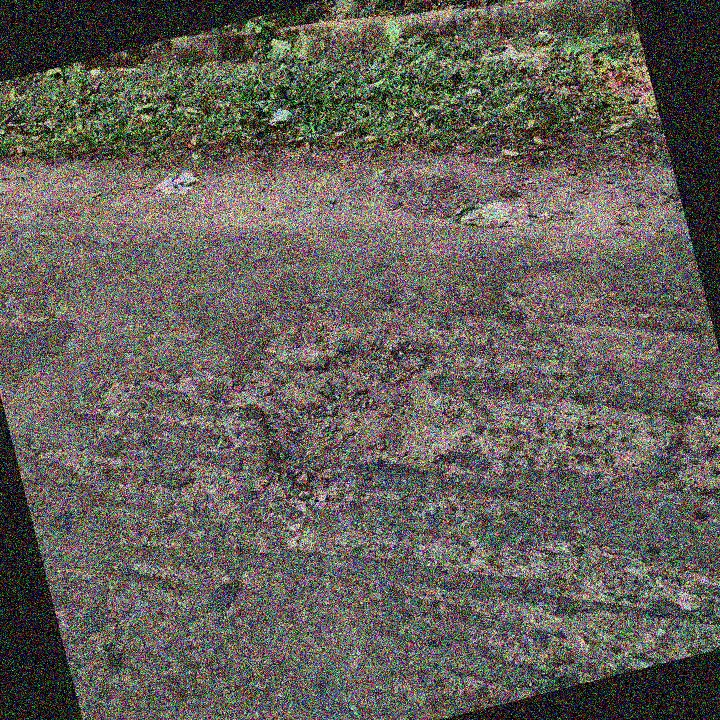pothole: (206, 316, 477, 515)
